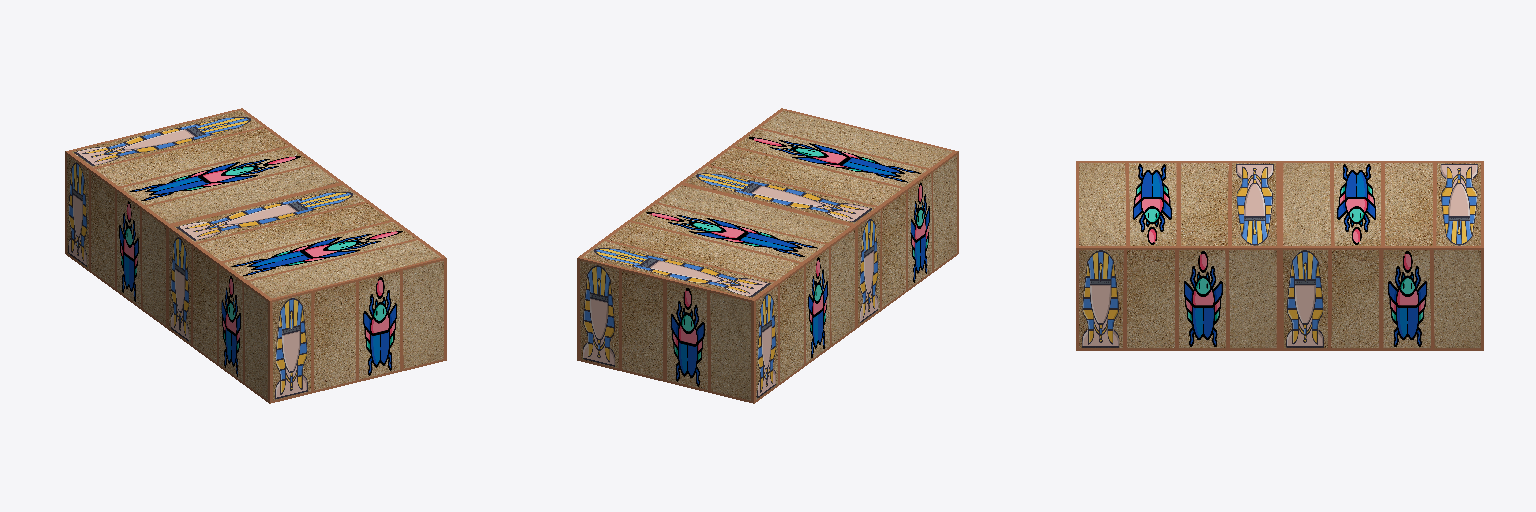
The picture shows the model from 3 angles: view 1: azimuth 30°, elevation 25°; view 2: azimuth 150°, elevation 25°; view 3: azimuth 270°, elevation 25°; orthographic projection.
Parts seen in each view (by area): view 1: Box137; view 2: Box137; view 3: Box137.
Boxes of the visible parts, x1,y1,x2,y2 form: Box137: [65, 108, 446, 403]; Box137: [577, 108, 958, 403]; Box137: [1076, 161, 1483, 350].
Bounding box in the file's own units: 4.5 × 2.5 × 9.
1 materials, 1 textured.